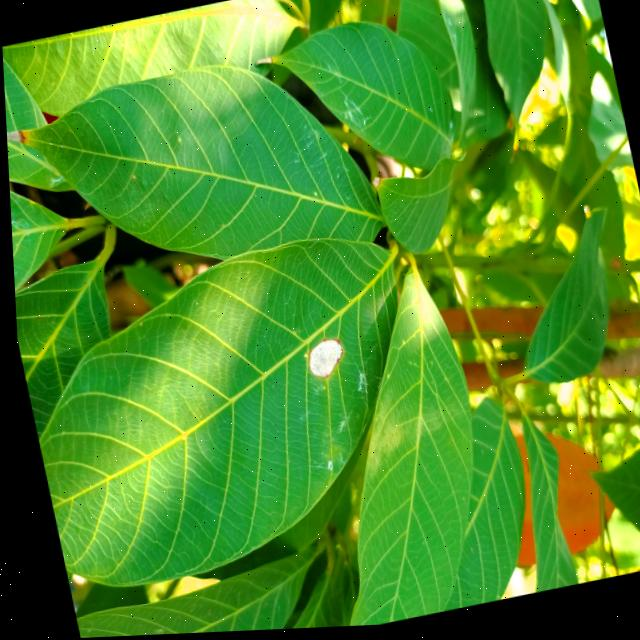Leaf-Blight: (300, 342, 342, 382), (5, 128, 24, 152), (252, 60, 272, 69), (369, 181, 378, 192)
